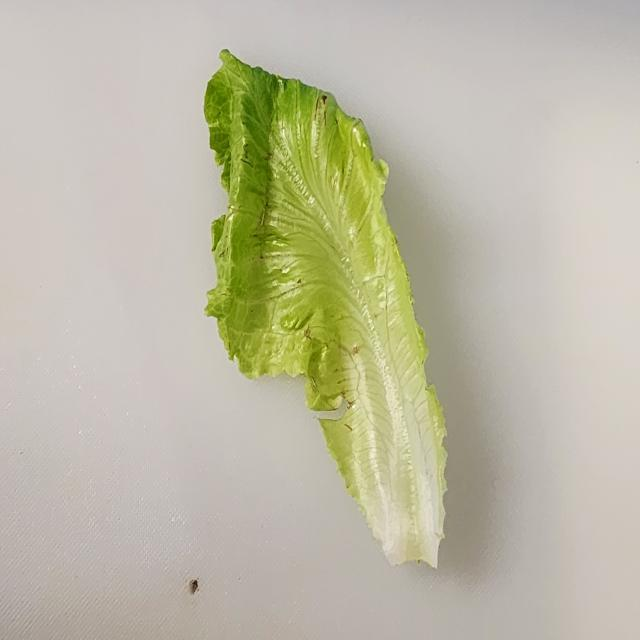lettuce: (202, 48, 449, 570)
